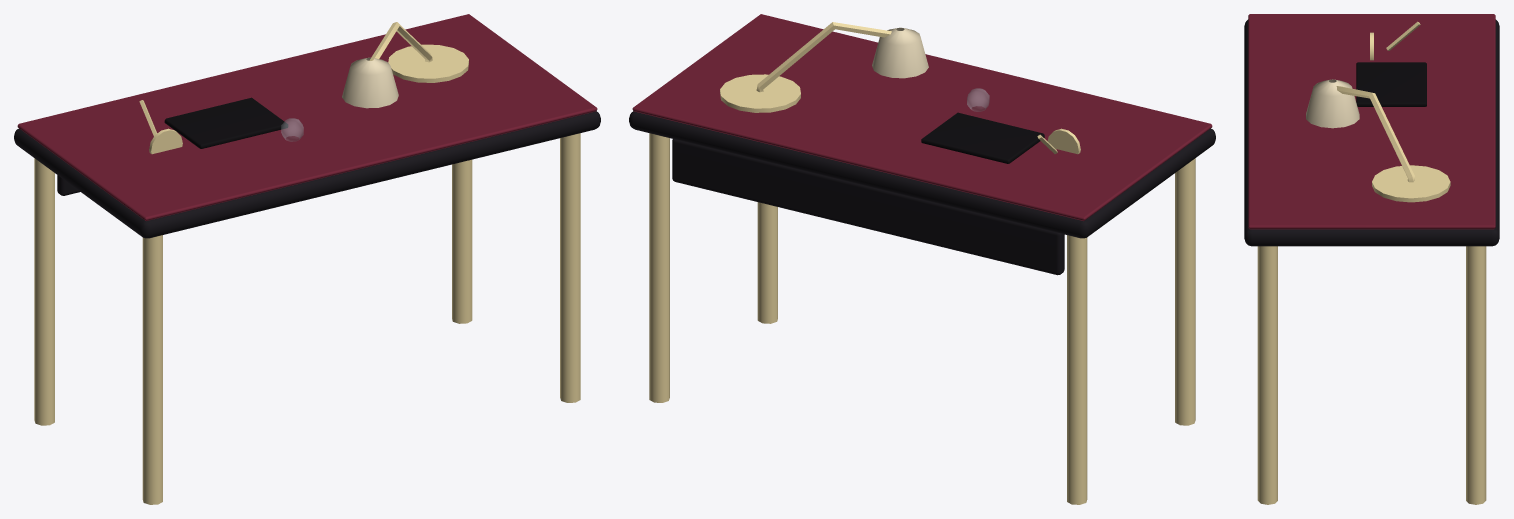
The model's file is appraisal_desk.glb.
The picture shows the model from 3 angles, left to right: view 1: azimuth 30°, elevation 25°; view 2: azimuth 150°, elevation 25°; view 3: azimuth 270°, elevation 25°; orthographic projection. The views are drawn at different scales.
Parts seen in each view (by area): view 1: appraisal_desk; view 2: appraisal_desk; view 3: appraisal_desk.
Part boxes in pixels (x1,y1,x2,y2): appraisal_desk: (14, 14, 600, 504); appraisal_desk: (629, 14, 1215, 504); appraisal_desk: (1244, 14, 1499, 504).
Size of the model in its own units: 1.3 by 0.9892 by 0.65.
